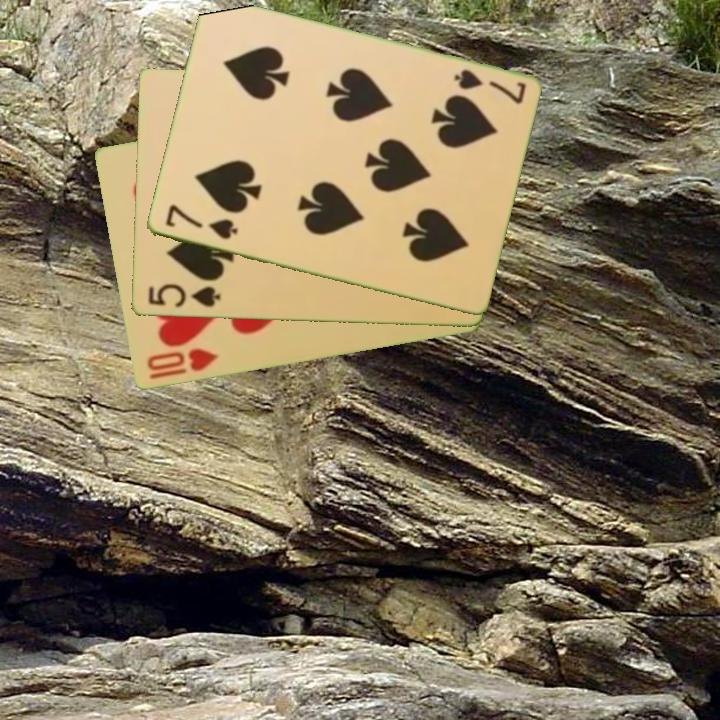10h: (143, 345, 222, 383)
5s: (144, 280, 223, 310)
7s: (161, 201, 240, 243), (450, 66, 529, 108)
